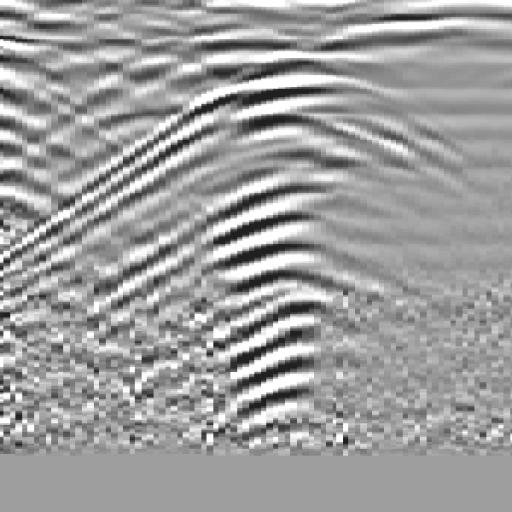metalic: (1, 25, 512, 431)
